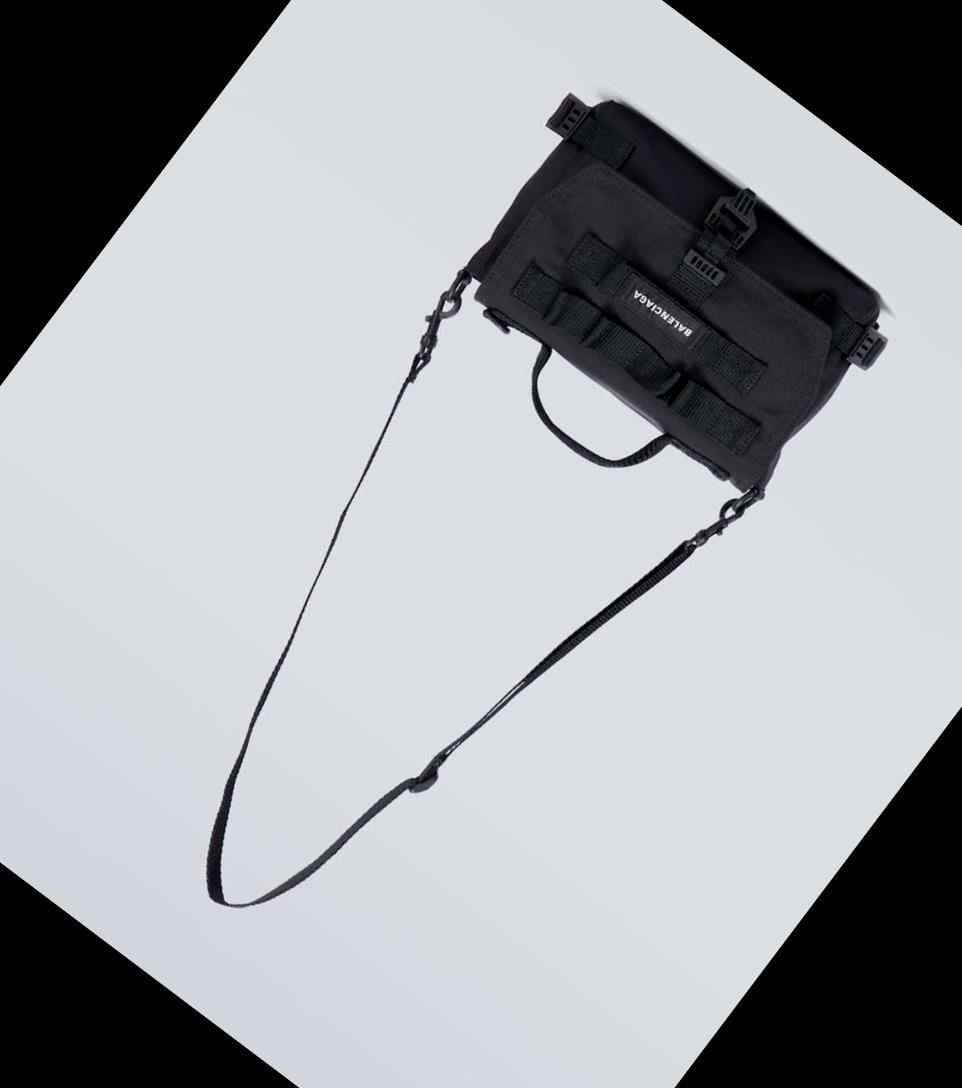BALENCIAGA: (630, 287, 692, 337)
